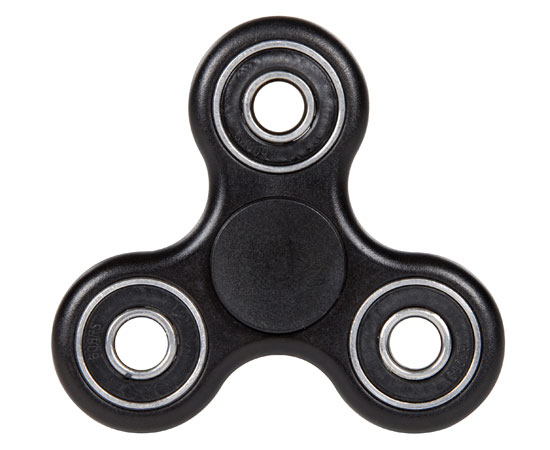fidget_spinner: (11, 8, 511, 445)
